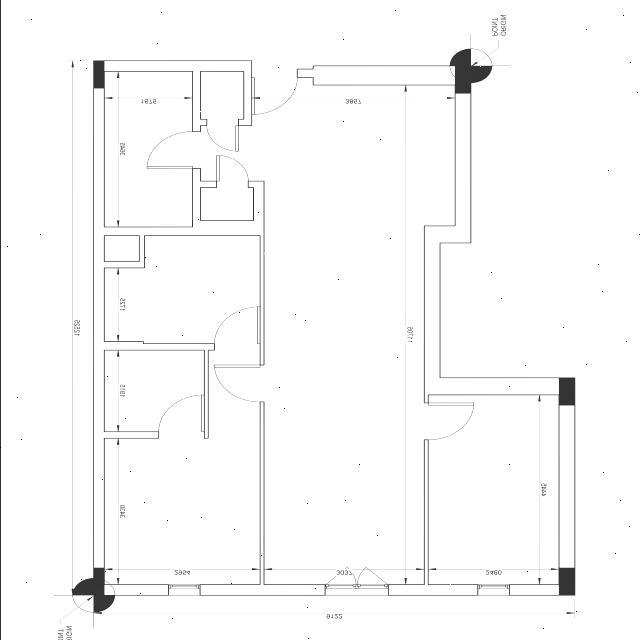Column: (450, 60, 474, 96), (554, 376, 578, 410), (554, 566, 576, 598), (90, 566, 106, 598), (90, 59, 106, 90)
Door: (246, 71, 312, 125), (417, 398, 482, 449), (152, 391, 206, 444), (210, 306, 268, 354), (210, 365, 272, 408), (141, 129, 197, 174), (208, 154, 252, 190), (201, 123, 243, 152)
Window: (320, 563, 392, 600), (164, 578, 202, 598), (474, 582, 512, 598)
